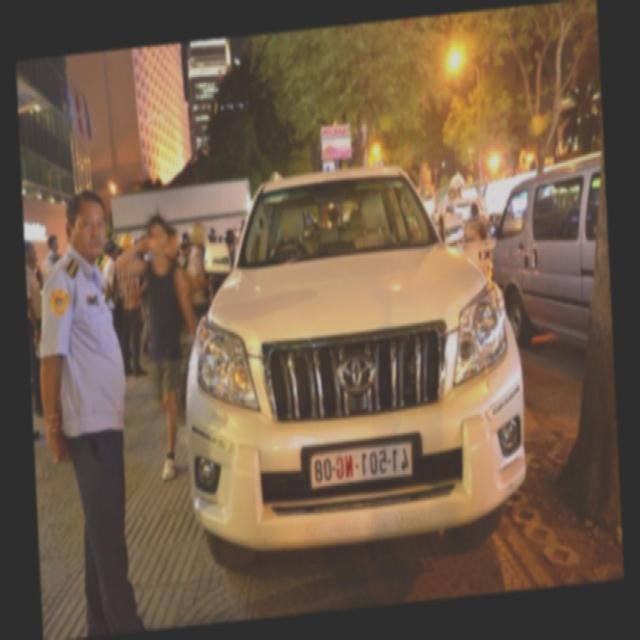bien_ngoai_giao: (308, 434, 414, 490)
